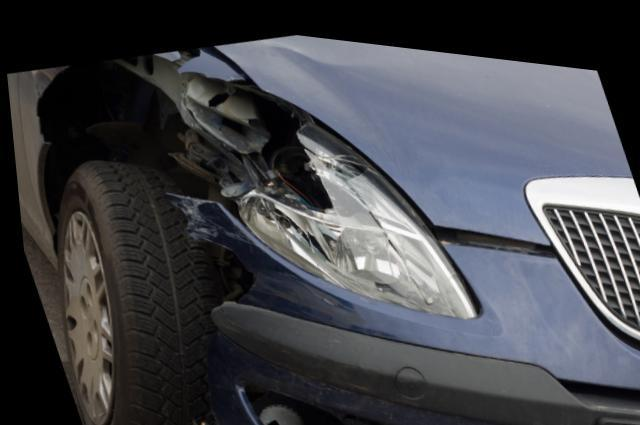dent: (257, 27, 377, 107)
lamp broken: (181, 72, 475, 308)
no part: (39, 41, 257, 203), (239, 384, 342, 425)
scratch: (167, 191, 243, 237)
